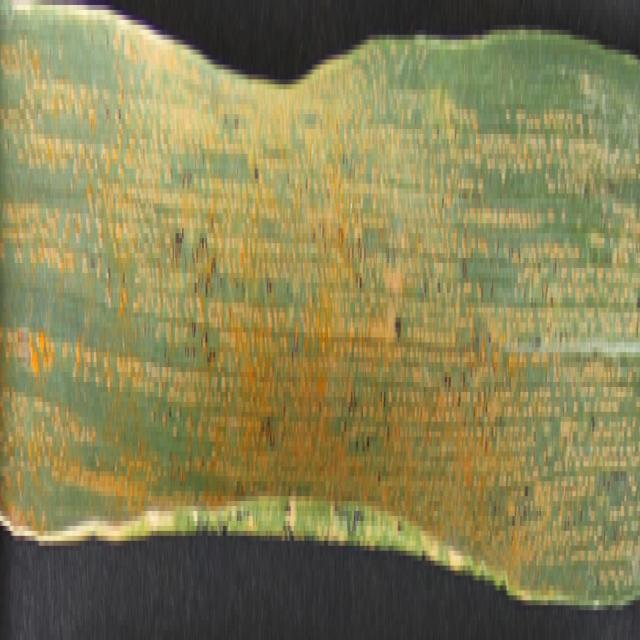leaf rust: (1, 15, 640, 565)
